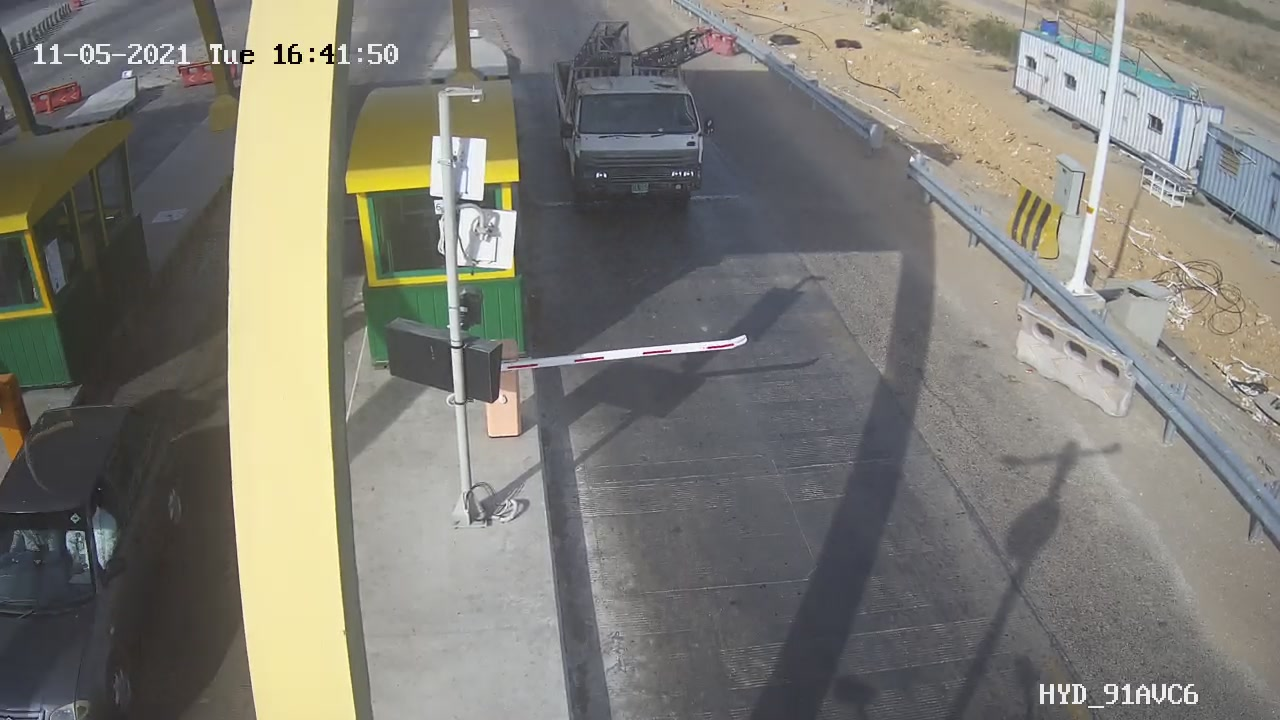F3: (537, 11, 735, 227)
